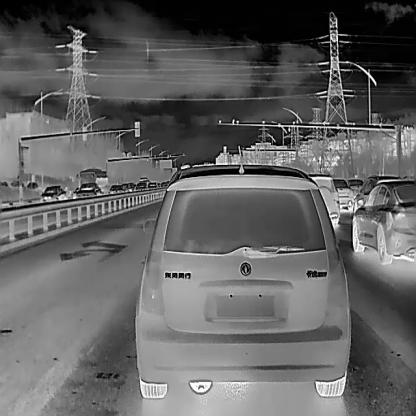bus: (76, 167, 108, 190)
car: (134, 164, 351, 398), (352, 180, 414, 264), (306, 173, 338, 224), (354, 174, 400, 208), (332, 176, 354, 212), (74, 182, 105, 197), (41, 184, 68, 200), (108, 184, 121, 192), (134, 182, 146, 190), (121, 183, 130, 192), (147, 181, 157, 187), (160, 181, 167, 186)
